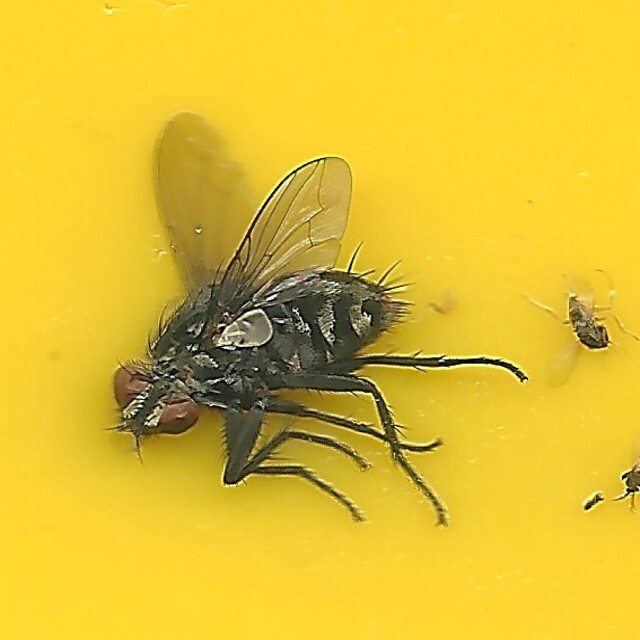Brachycera: (113, 104, 527, 536)
